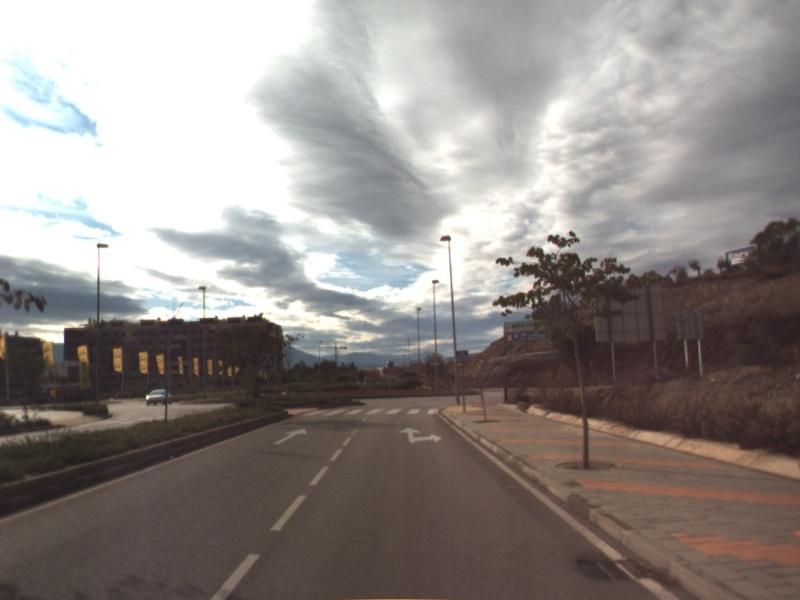STRAIGHT: (272, 426, 309, 446)
STRAIGHT_RIGHT: (397, 425, 444, 445)
